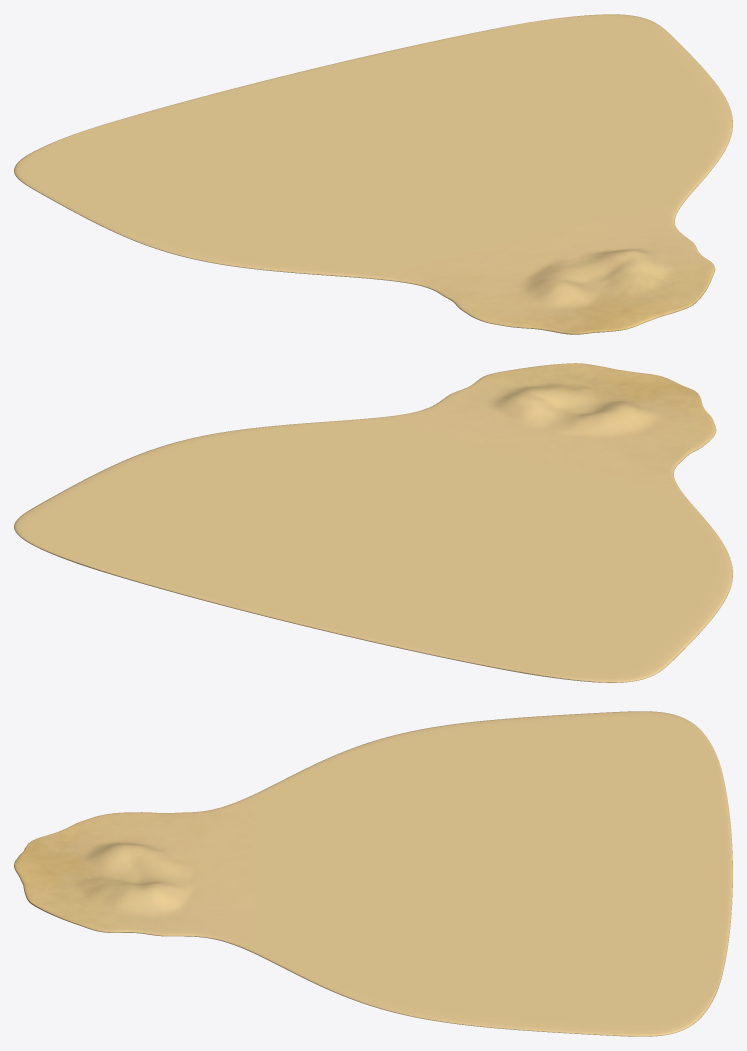
The model's file is Base_isola.fbx.
The picture shows the model from 3 angles, top to bottom: view 1: azimuth 30°, elevation 25°; view 2: azimuth 150°, elevation 25°; view 3: azimuth 270°, elevation 25°; orthographic projection. The views are drawn at different scales.
Parts seen in each view (by area): view 1: Terreno; view 2: Terreno; view 3: Terreno.
Part boxes in pixels (left/top/right/bottom): Terreno: left=14, top=14, right=732, bottom=334; Terreno: left=14, top=363, right=732, bottom=682; Terreno: left=14, top=711, right=732, bottom=1036.
Size of the model in its own units: 8714 by 149 by 8143.
